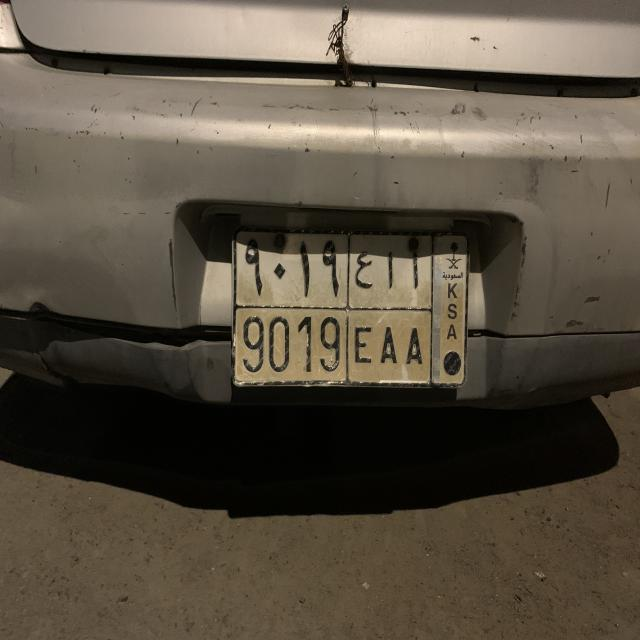license_plate: (230, 222, 472, 390)
